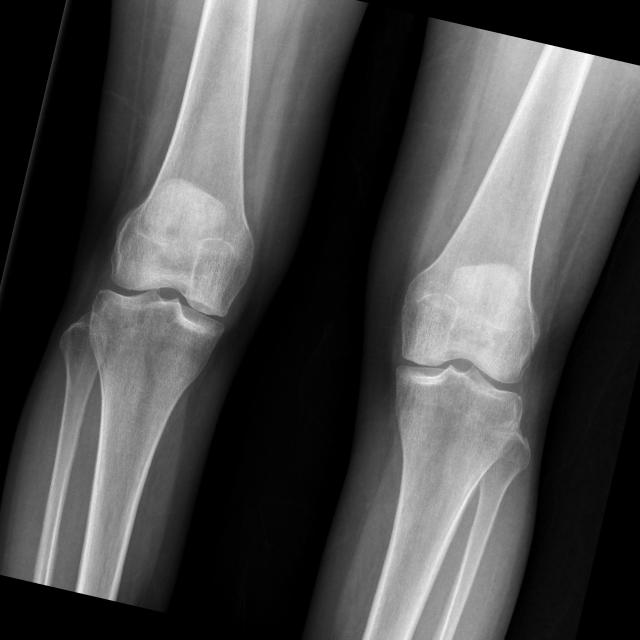Knee: (78, 209, 256, 386), (374, 280, 546, 445)
